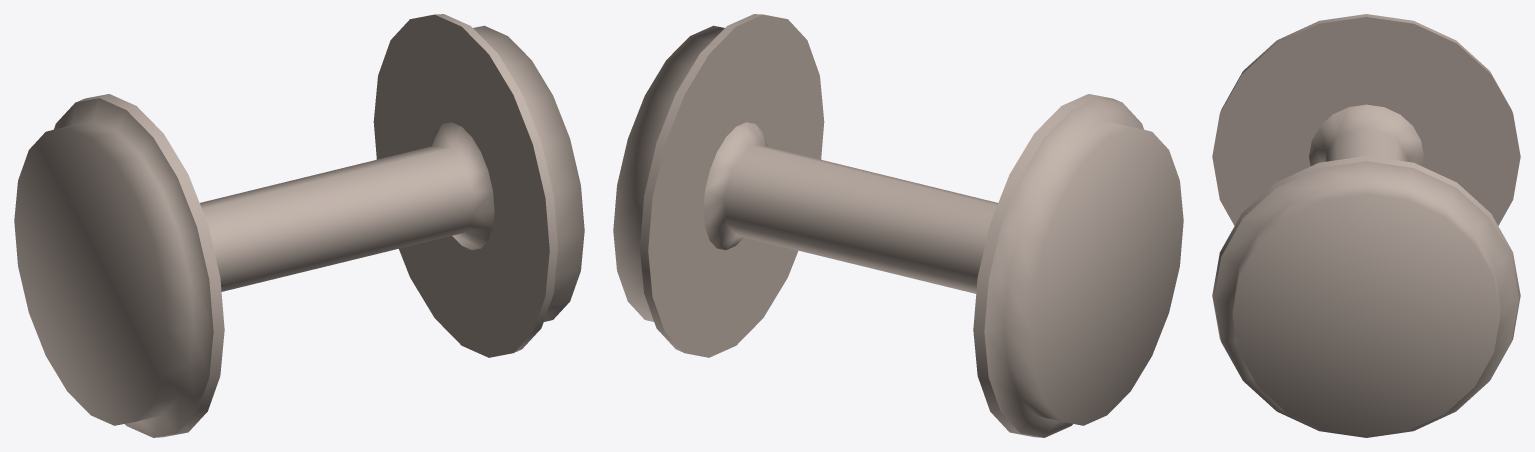
File: B_wheel.fbx
3 renders of one model, left to right at view 1: azimuth 30°, elevation 25°; view 2: azimuth 150°, elevation 25°; view 3: azimuth 270°, elevation 25°, orthographic. The views are drawn at different scales.
Parts seen in each view (by area): view 1: B_Wheel; view 2: B_Wheel; view 3: B_Wheel.
Part boxes in pixels (box(x1,y1,x2,y2)): B_Wheel: box(14, 14, 584, 437); B_Wheel: box(613, 14, 1183, 437); B_Wheel: box(1212, 14, 1520, 437).
Bounding box in the file's own units: 225 × 164 × 164.
